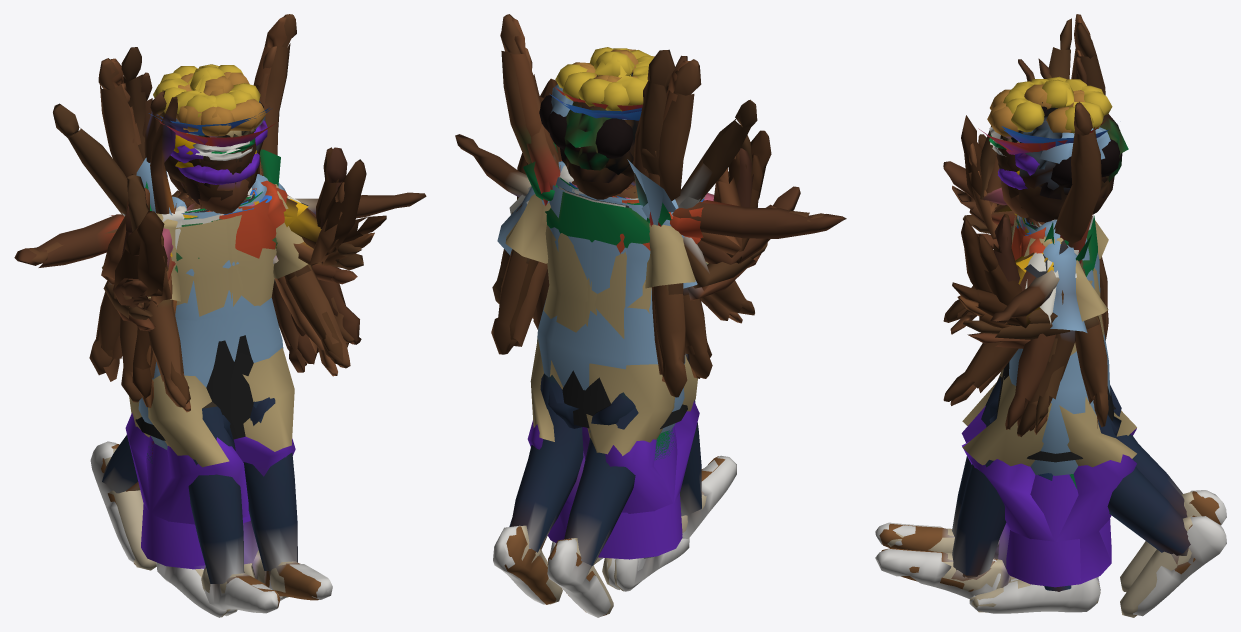
The model's file is crowd.glb.
The picture shows the model from 3 angles, left to right: view 1: azimuth 30°, elevation 25°; view 2: azimuth 150°, elevation 25°; view 3: azimuth 270°, elevation 25°; orthographic projection.
Parts seen in each view (by area): view 1: spec_q_walk_1, spec_q_walk_0, spec_t_walk_1, spec_r_walk_0, spec_r_walk_1, spec_t_walk_0, spec_a_watch_1, spec_e_watch_0, spec_m_talk_1, spec_j_watch_1, spec_e_watch_1, spec_d_watch_1 (+20 smaller); view 2: spec_a_watch_1, spec_q_walk_0, spec_q_walk_1, spec_t_walk_1, spec_j_watch_1, spec_e_watch_0, spec_t_walk_0, spec_j_watch_0, spec_r_walk_1, spec_c_watch_1, spec_m_talk_1, spec_e_watch_1 (+15 smaller); view 3: spec_q_walk_1, spec_q_walk_0, spec_r_walk_0, spec_r_walk_1, spec_e_watch_0, spec_j_watch_1, spec_a_watch_1, spec_t_walk_1, spec_e_watch_1, spec_j_watch_0, spec_t_walk_0, spec_a_watch_0 (+18 smaller).
Part boxes in pixels (box(x1,y1,x2,y2)): spec_q_walk_1: box(90, 129, 332, 599); spec_q_walk_0: box(89, 132, 350, 613); spec_t_walk_1: box(129, 129, 294, 451); spec_r_walk_0: box(103, 72, 337, 593); spec_r_walk_1: box(104, 72, 296, 595); spec_t_walk_0: box(102, 130, 311, 467); spec_a_watch_1: box(98, 14, 296, 617); spec_e_watch_0: box(141, 65, 306, 566); spec_m_talk_1: box(14, 141, 361, 344); spec_j_watch_1: box(121, 47, 348, 449); spec_e_watch_1: box(149, 64, 426, 467); spec_d_watch_1: box(137, 159, 366, 296); spec_a_watch_1: box(500, 14, 701, 591); spec_q_walk_0: box(493, 285, 736, 604); spec_q_walk_1: box(491, 250, 754, 617); spec_t_walk_1: box(505, 189, 708, 455); spec_j_watch_1: box(497, 49, 684, 433); spec_e_watch_0: box(533, 48, 682, 556); spec_t_walk_0: box(530, 223, 697, 441); spec_j_watch_0: box(537, 74, 697, 389); spec_r_walk_1: box(513, 49, 742, 616); spec_c_watch_1: box(525, 47, 687, 420); spec_m_talk_1: box(572, 181, 846, 253); spec_e_watch_1: box(455, 47, 687, 461); spec_q_walk_1: box(875, 130, 1226, 598); spec_q_walk_0: box(875, 149, 1226, 616); spec_r_walk_0: box(887, 84, 1192, 617); spec_r_walk_1: box(942, 84, 1201, 592); spec_e_watch_0: box(1003, 58, 1112, 589); spec_j_watch_1: box(1017, 22, 1110, 436); spec_a_watch_1: box(1010, 14, 1128, 590); spec_t_walk_1: box(962, 130, 1136, 466); spec_e_watch_1: box(990, 59, 1114, 493); spec_j_watch_0: box(1009, 217, 1110, 475); spec_t_walk_0: box(962, 136, 1136, 467); spec_a_watch_0: box(969, 135, 1100, 613).
Size of the model in its own units: 1.6 by 2.12 by 1.23.
